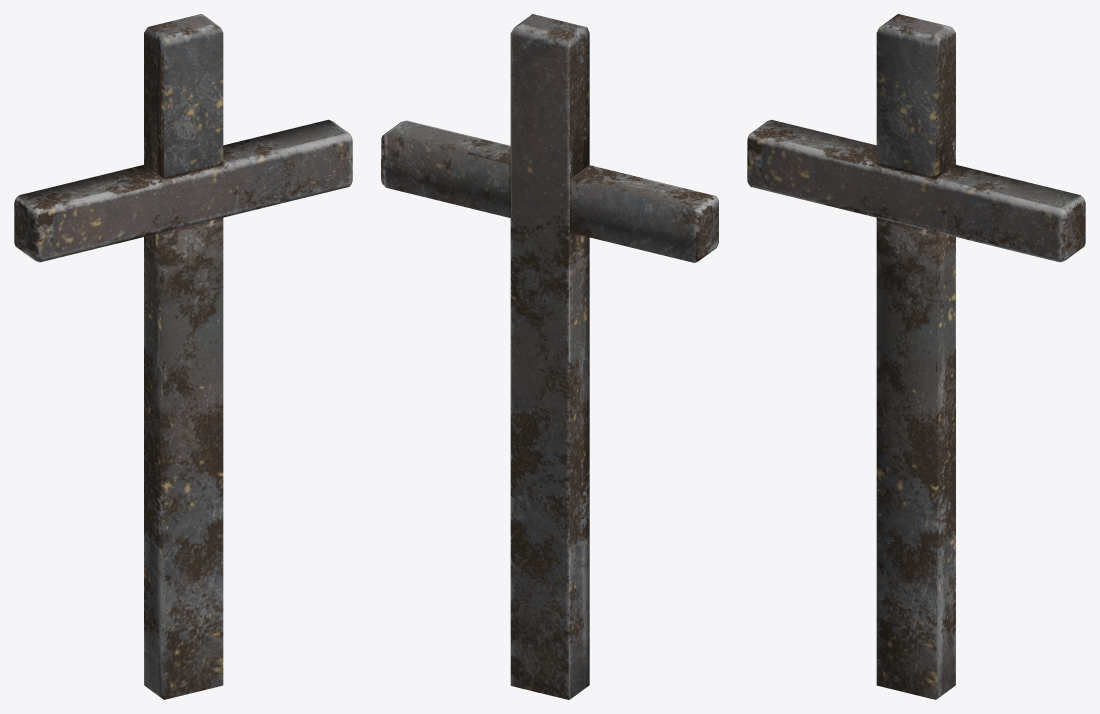
The model's file is krest1.fbx.
3 views of the same model, side by side, from view 1: azimuth 30°, elevation 25°; view 2: azimuth 150°, elevation 25°; view 3: azimuth 330°, elevation 25° (orthographic).
Parts seen in each view (by area): view 1: CandleCrosses.012; view 2: CandleCrosses.012; view 3: CandleCrosses.012.
Part boxes in pixels (x1,y1,x2,y2): CandleCrosses.012: (14, 14, 352, 699); CandleCrosses.012: (381, 14, 718, 699); CandleCrosses.012: (747, 14, 1085, 699).
Bounding box in the file's own units: 635 × 1256 × 77.69.
